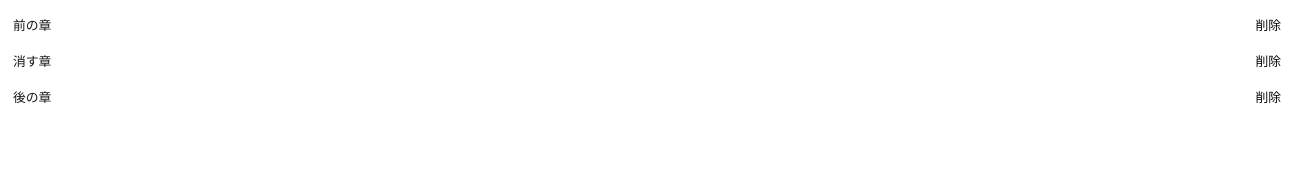
Test: ChapterList の削除 › 「削除」を押すと、その章だけが消え、保存される(対象は中間)
Click the button with aria-label "「消す章」を削除".
click(1268, 62)  # box [1244,48,1292,76]
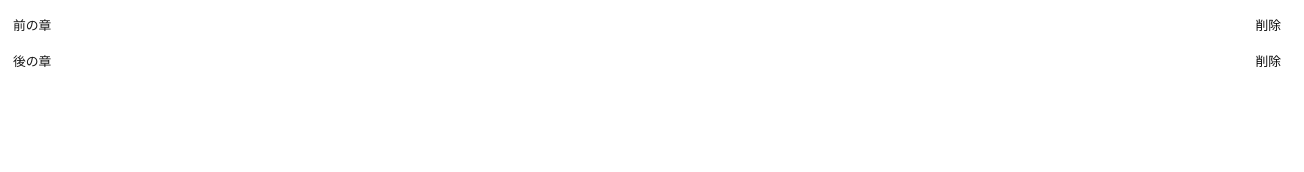
Expected: the button "前の章" is shown, [12,15,52,37]
Result: the button "消す章" is gone
